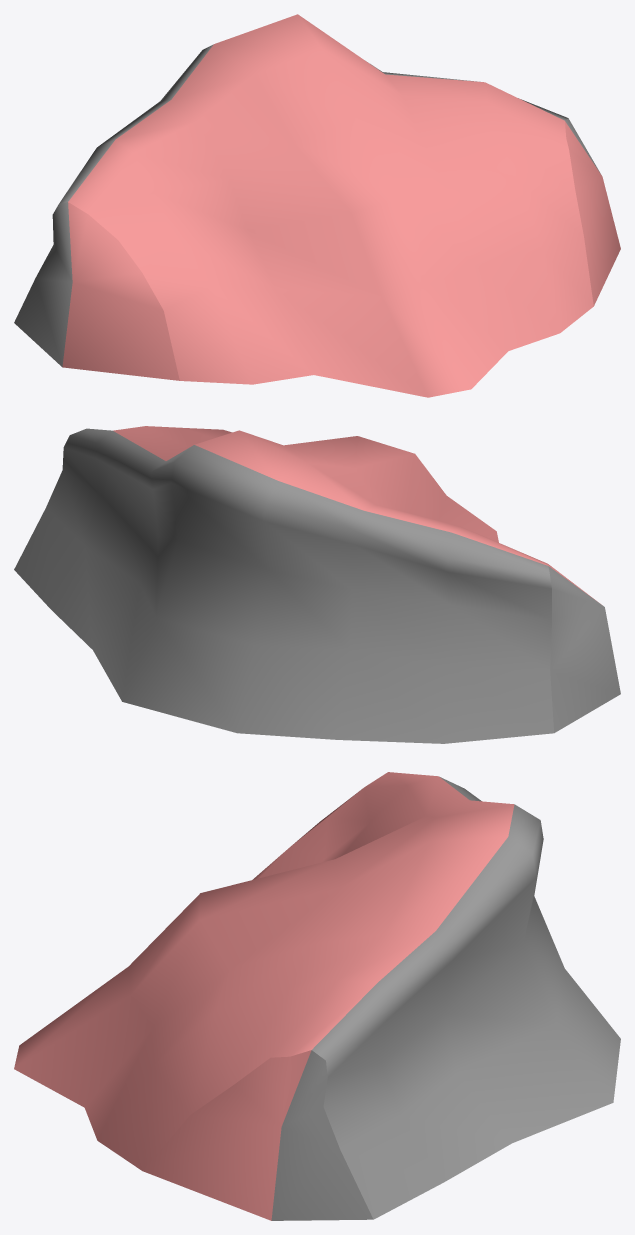
File: PriPlain_stone01.gltf
The picture shows the model from 3 angles, top to bottom: view 1: azimuth 30°, elevation 25°; view 2: azimuth 150°, elevation 25°; view 3: azimuth 270°, elevation 25°; orthographic projection. The views are drawn at different scales.
Visible parts, largest first — view 1: PriPlain_stone01; view 2: PriPlain_stone01; view 3: PriPlain_stone01.
Boxes of the visible parts, bbox=[...] form: PriPlain_stone01: bbox=[14, 14, 620, 397]; PriPlain_stone01: bbox=[14, 426, 620, 743]; PriPlain_stone01: bbox=[14, 772, 620, 1220].
Bounding box in the file's own units: 1.92 × 0.7297 × 1.57.
